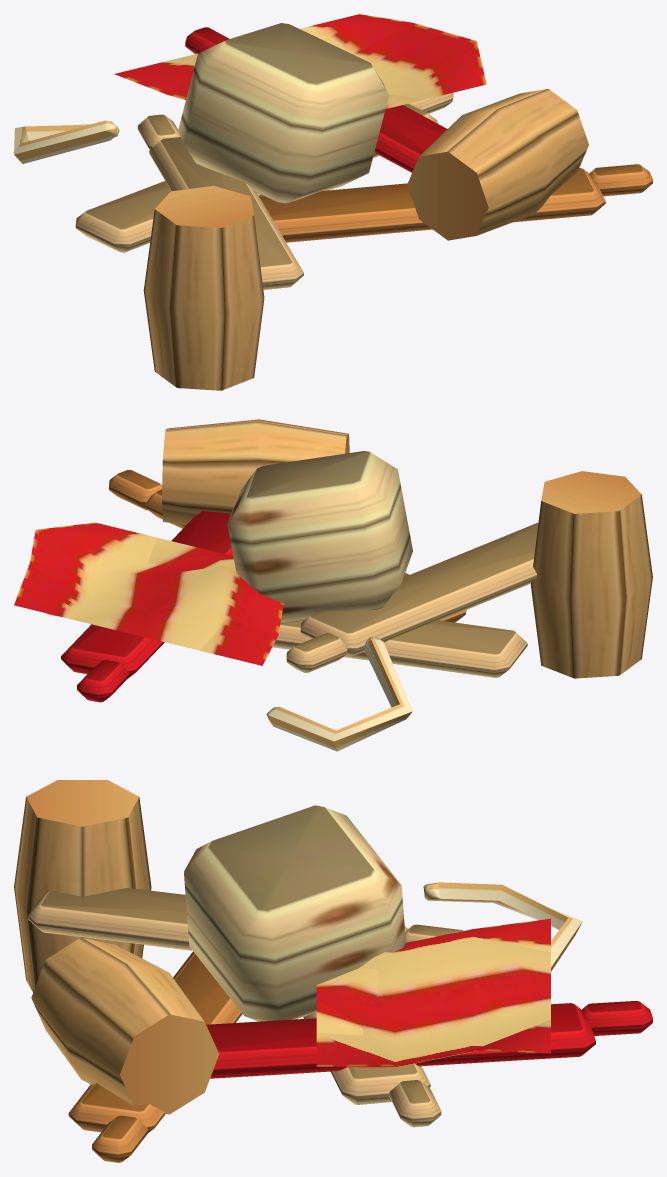
The model's file is flotsam.glb.
3 views of the same model, one above another, from view 1: azimuth 30°, elevation 25°; view 2: azimuth 150°, elevation 25°; view 3: azimuth 270°, elevation 25° (orthographic). The views are drawn at different scales.
Visible parts, largest first — view 1: Flotsam; view 2: Flotsam; view 3: Flotsam.
Part boxes in pixels (x1=…): Flotsam: x1=14, y1=14, x2=652, y2=390; Flotsam: x1=14, y1=419, x2=652, y2=751; Flotsam: x1=14, y1=780, x2=652, y2=1162.
Bounding box in the file's own units: 1.24 × 0.5152 × 1.2.
3 materials, 3 textured.
